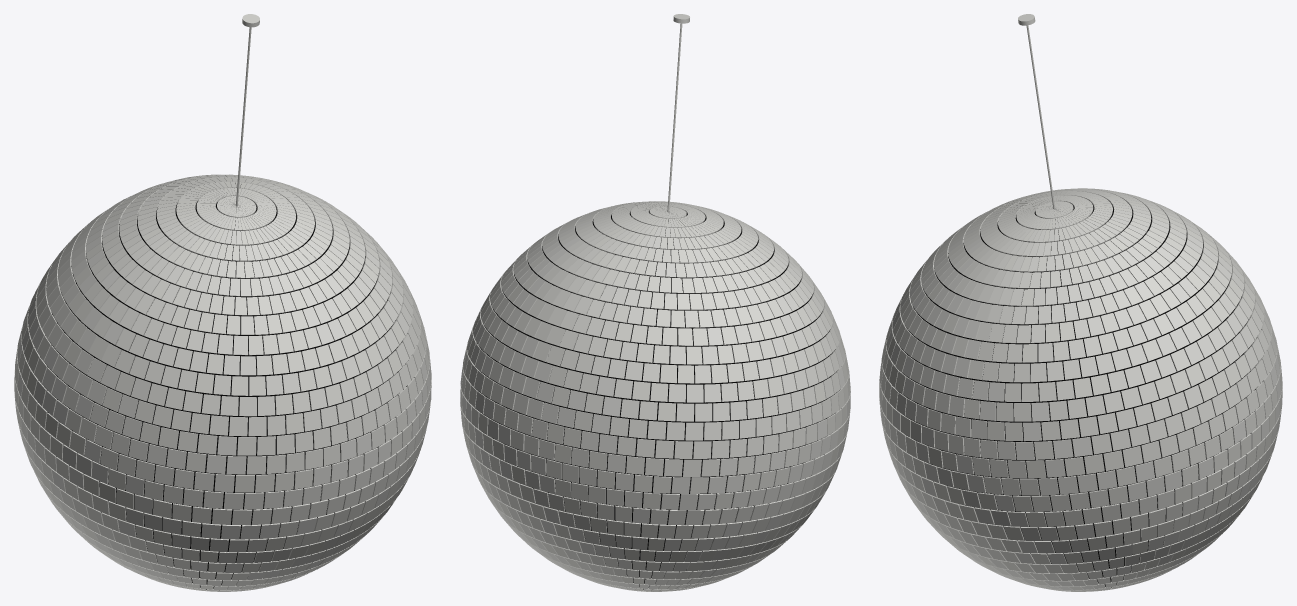
File: Disco_ball_animated.glb
The picture shows the model from 3 angles, left to right: view 1: azimuth 30°, elevation 25°; view 2: azimuth 150°, elevation 25°; view 3: azimuth 270°, elevation 25°; orthographic projection. The views are drawn at different scales.
Visible parts, largest first — view 1: disco_ball_disco_0, disco_ball_spaces_0; view 2: disco_ball_disco_0, disco_ball_spaces_0; view 3: disco_ball_disco_0, disco_ball_spaces_0.
Part boxes in pixels (bbox=[...]): disco_ball_disco_0: bbox=[14, 14, 431, 591]; disco_ball_spaces_0: bbox=[38, 183, 414, 589]; disco_ball_disco_0: bbox=[460, 14, 850, 591]; disco_ball_spaces_0: bbox=[471, 210, 841, 589]; disco_ball_disco_0: bbox=[879, 14, 1282, 591]; disco_ball_spaces_0: bbox=[892, 204, 1263, 587].
Bounding box in the file's own units: 120 × 183 × 120.
2 materials, 1 textured.
